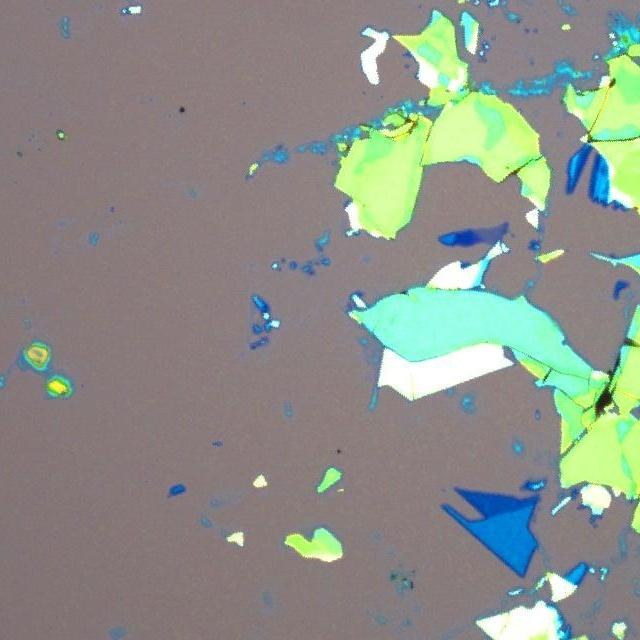monolayer-eWW4: (474, 224, 504, 244)
